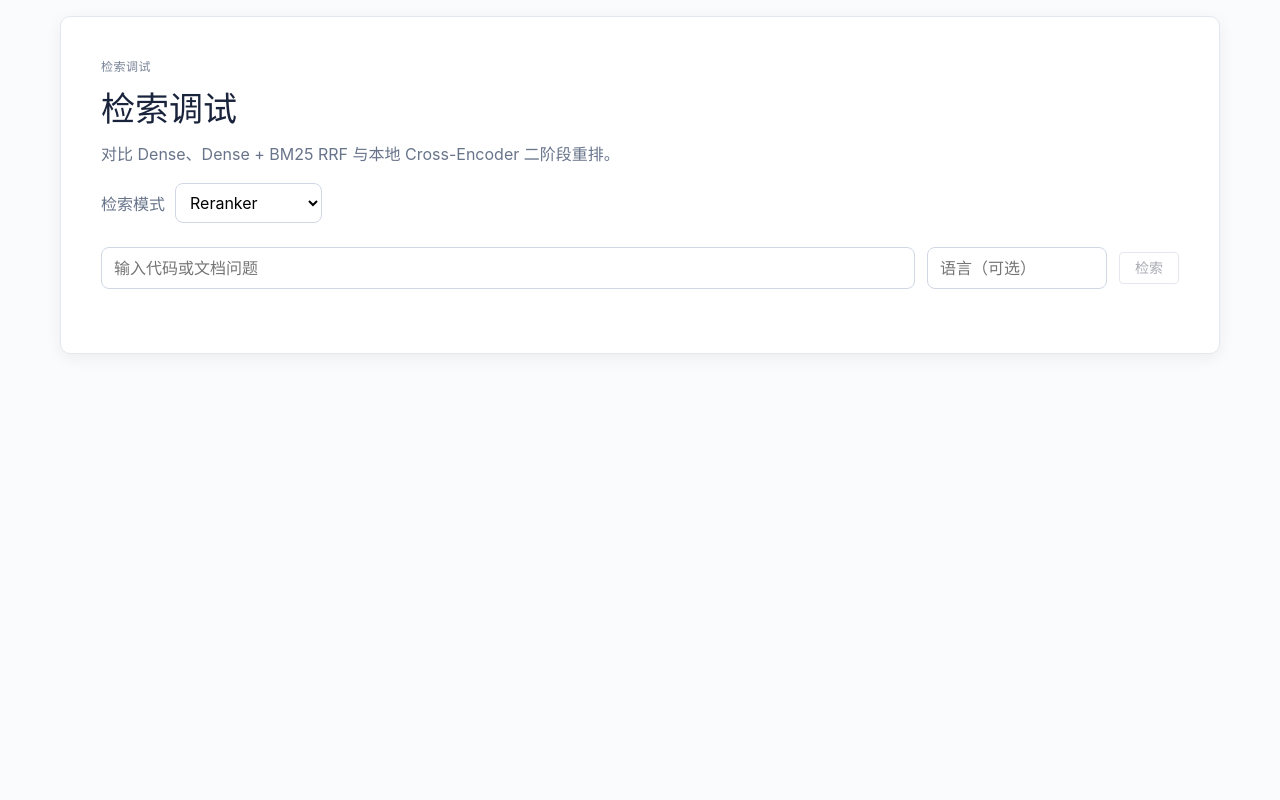
Scenario: SemanticSearchPanel › shows a neutral empty state when no result clears the threshold
Type "unanswered question" into the field named "语义查询" at (508, 268), box [101, 247, 915, 289]
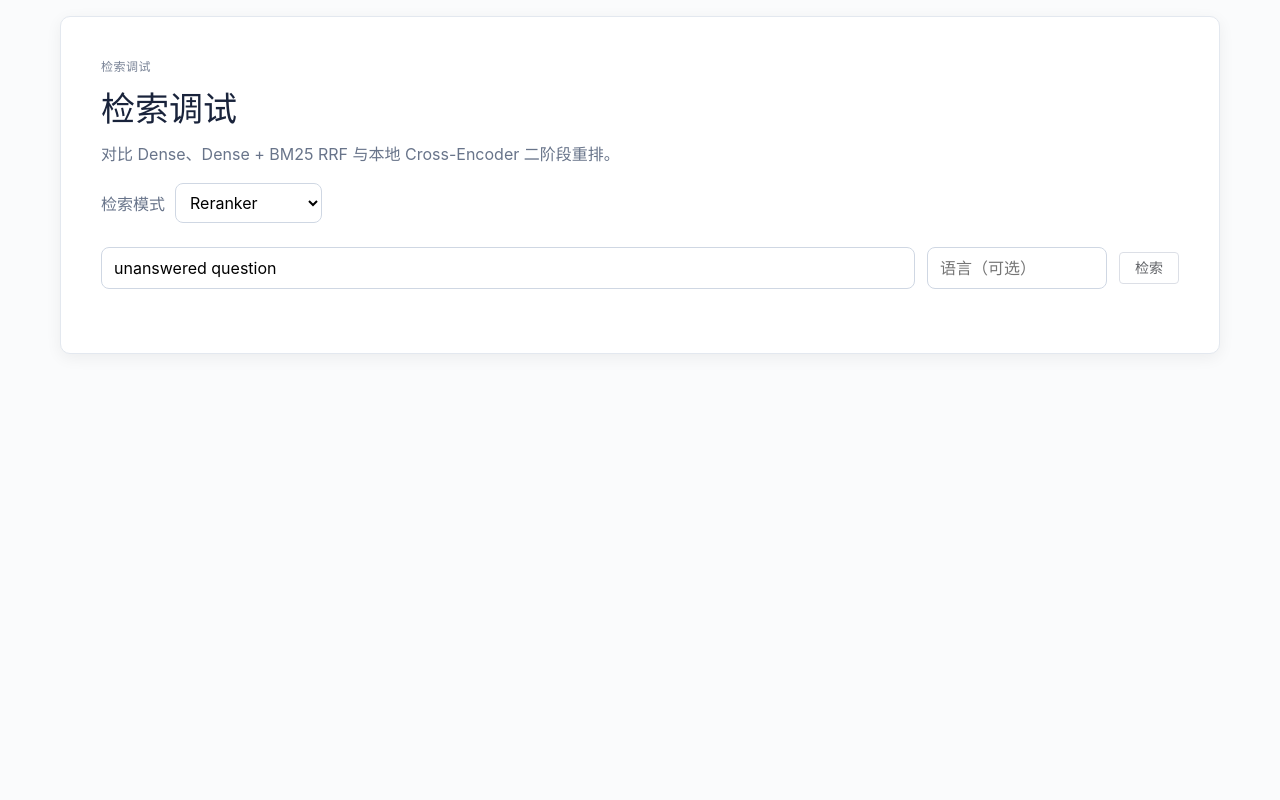
Submit the form, box [101, 247, 1179, 289]
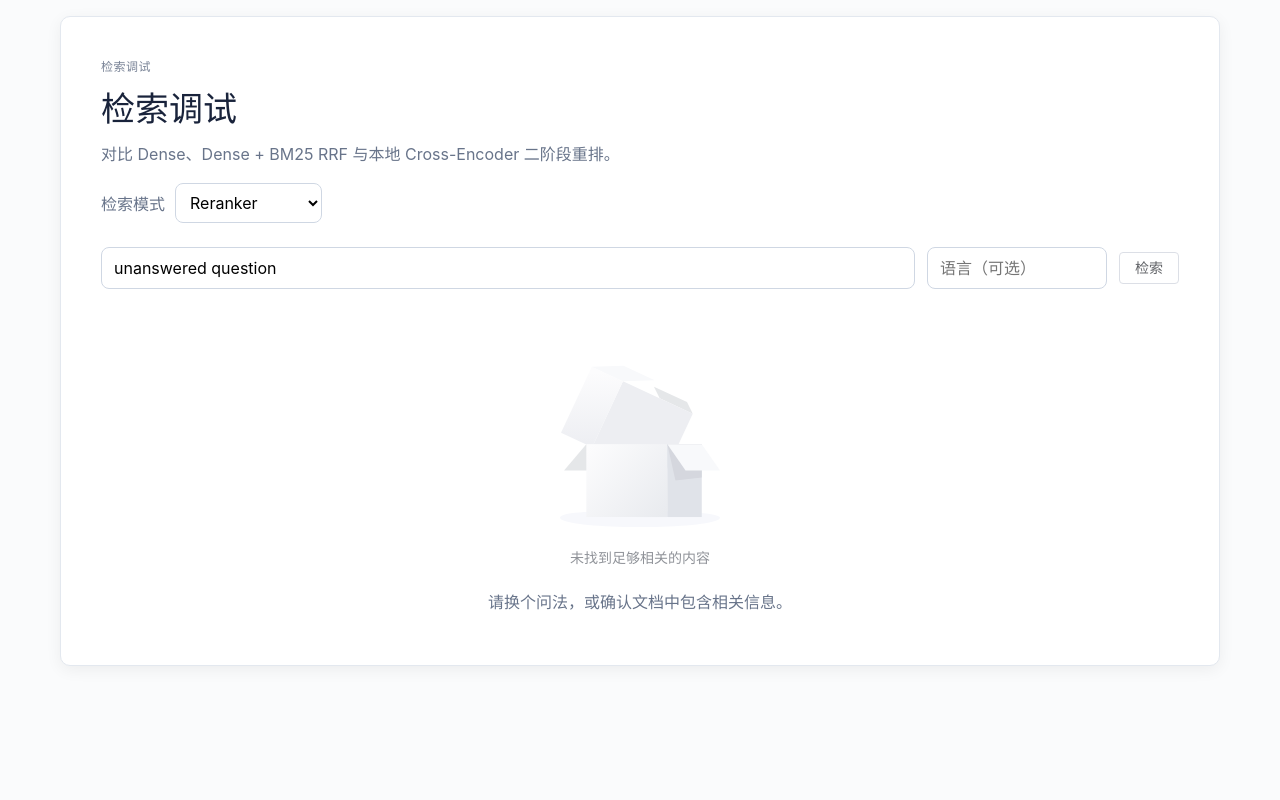
expect the text "未找到足够相关的内容" is shown: met, box [570, 547, 710, 567]
expect the text "请换个问法，或确认文档中包含相关信息。" is shown: met, box [488, 592, 792, 612]
